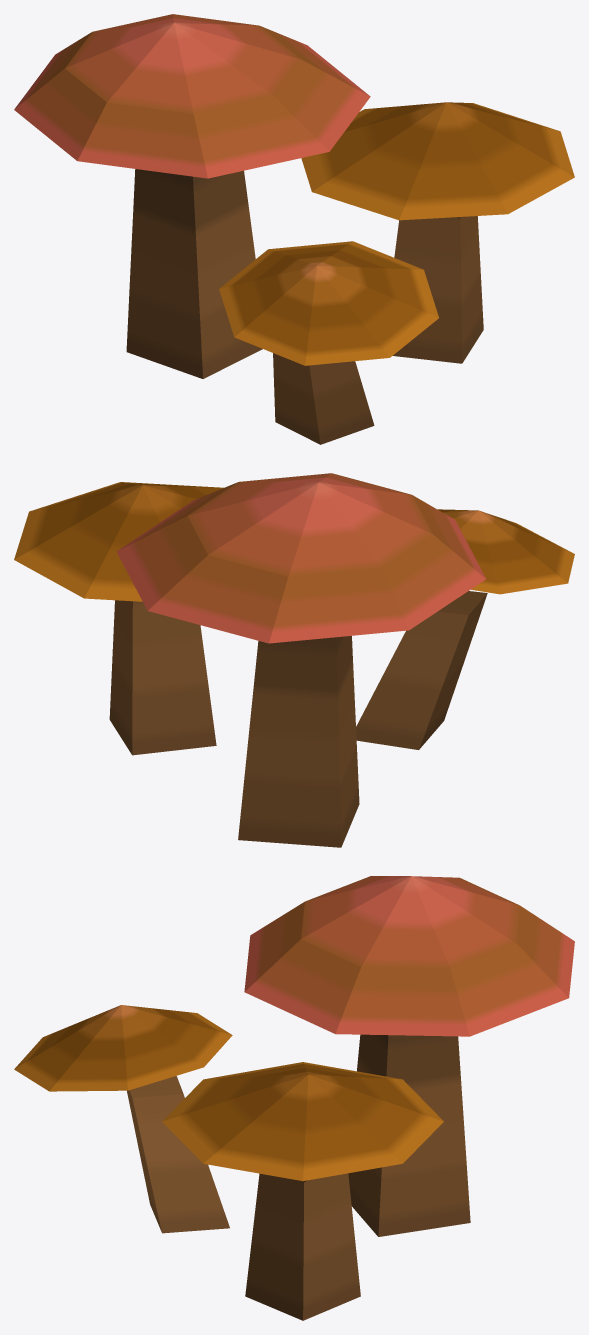
File: um_mushroom004.FBX
3 views of the same model, one above another, from view 1: azimuth 30°, elevation 25°; view 2: azimuth 150°, elevation 25°; view 3: azimuth 270°, elevation 25° (orthographic). The views are drawn at different scales.
Parts seen in each view (by area): view 1: um_mushroom004; view 2: um_mushroom004; view 3: um_mushroom004.
Boxes of the visible parts, x1,y1,x2,y2 form: um_mushroom004: (14, 14, 574, 444); um_mushroom004: (14, 473, 574, 847); um_mushroom004: (14, 876, 574, 1320).
Size of the model in its own units: 0.9025 by 0.6195 by 0.971.
